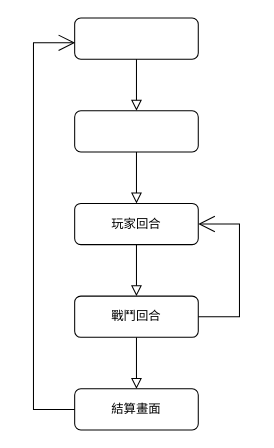
Image size: 274x448. Some labels were removed from this diagram. The box of each missing label's shape, as (x1, y1, x2, y2) in pixels:
遊戲選單: (74, 17, 198, 59)
選角: (74, 110, 198, 152)
